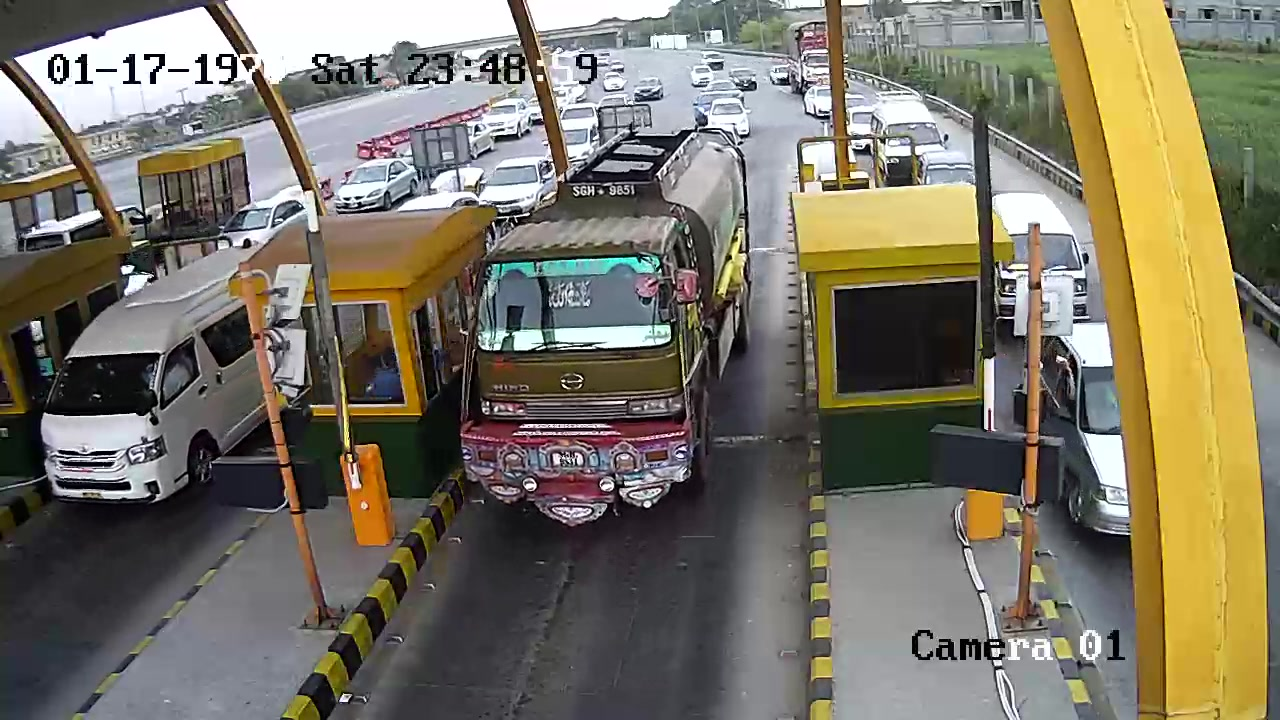F6: (453, 116, 767, 543)
